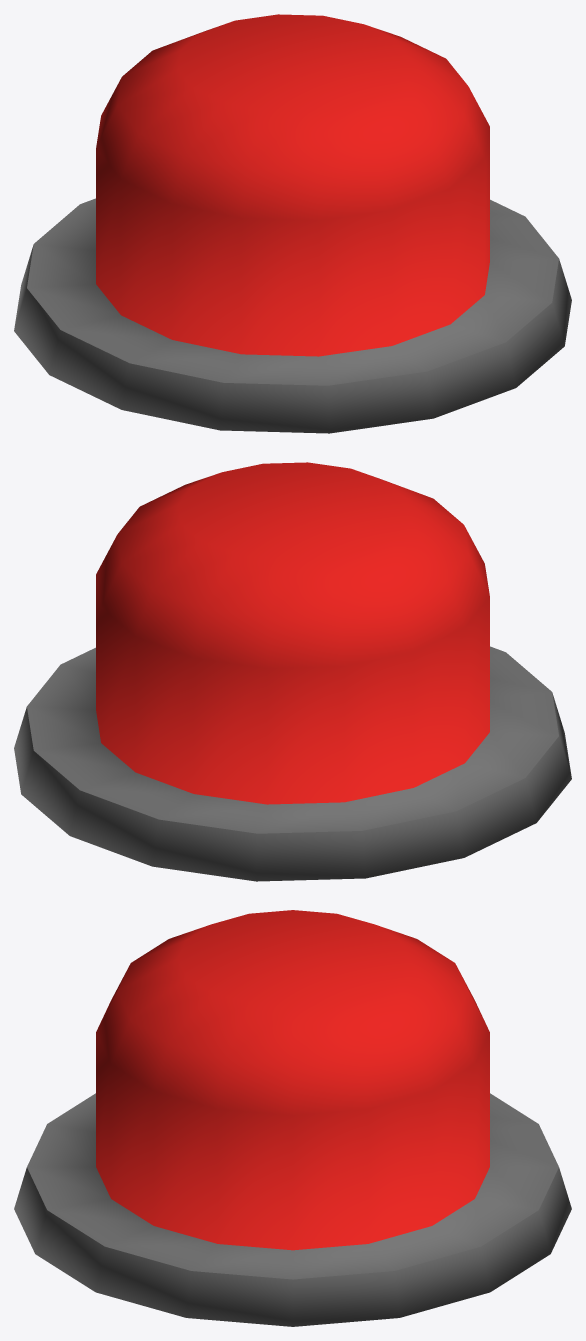
The model's file is headLight.fbx.
3 views of the same model, one above another, from view 1: azimuth 30°, elevation 25°; view 2: azimuth 150°, elevation 25°; view 3: azimuth 270°, elevation 25° (orthographic).
Parts seen in each view (by area): view 1: Head - Alarm Light; view 2: Head - Alarm Light; view 3: Head - Alarm Light.
Boxes of the visible parts, bbox=[...] form: Head - Alarm Light: bbox=[14, 14, 571, 433]; Head - Alarm Light: bbox=[14, 462, 571, 881]; Head - Alarm Light: bbox=[14, 910, 571, 1326].
Size of the model in its own units: 23.86 by 23.86 by 11.82.
